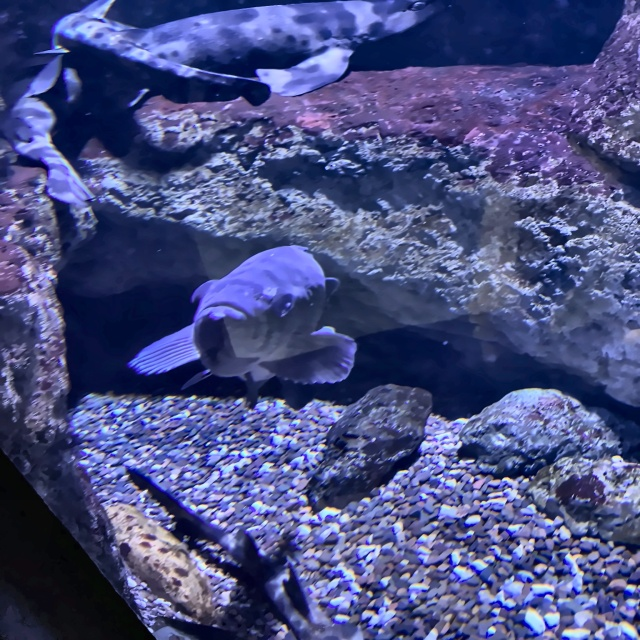fish: (128, 242, 354, 403)
shark: (8, 0, 436, 204)
